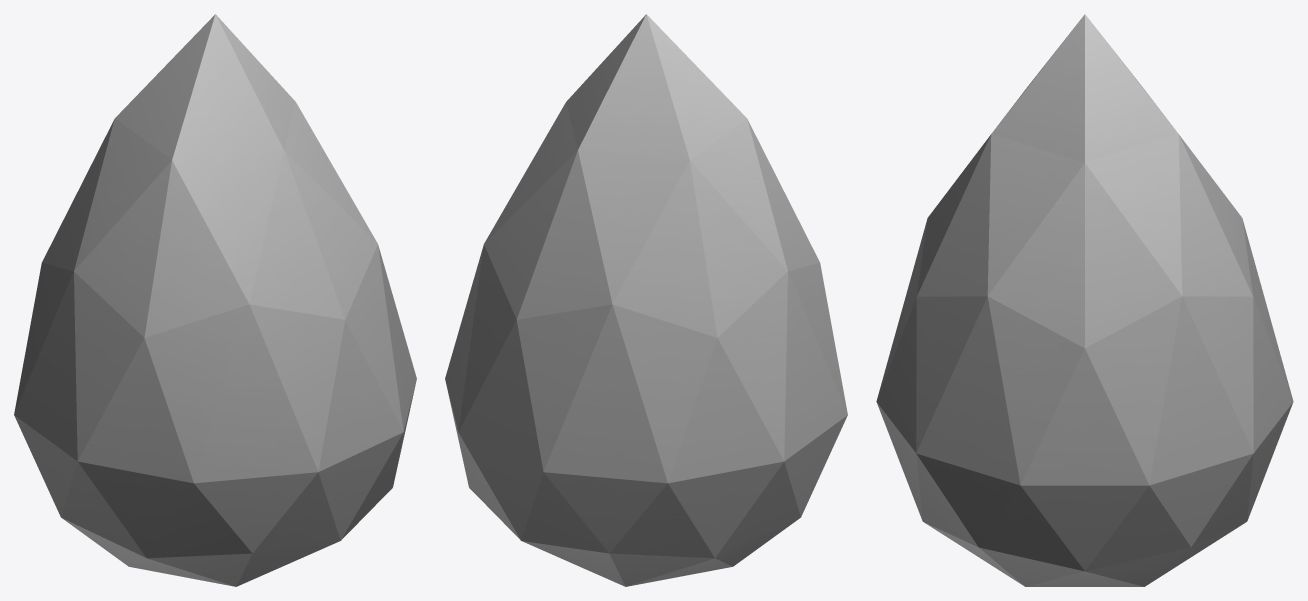
The model's file is SM_Poop.fbx.
3 views of the same model, side by side, from view 1: azimuth 30°, elevation 25°; view 2: azimuth 150°, elevation 25°; view 3: azimuth 270°, elevation 25° (orthographic).
Visible parts, largest first — view 1: Poop Drop; view 2: Poop Drop; view 3: Poop Drop.
Part boxes in pixels (box(x1,y1,x2,y2)): Poop Drop: box(14, 14, 416, 586); Poop Drop: box(445, 14, 847, 586); Poop Drop: box(876, 14, 1293, 586).
Bounding box in the file's own units: 7.16 × 11.15 × 7.53.
